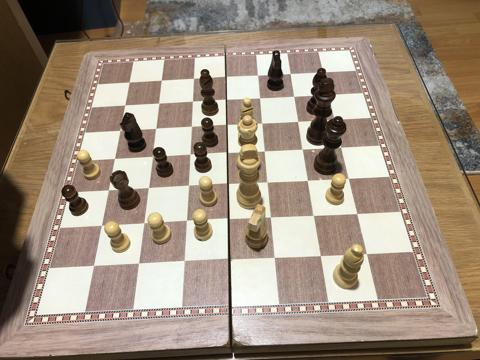xcorner: (220, 119, 233, 132), (261, 176, 274, 189), (221, 178, 234, 191), (132, 257, 145, 270), (316, 67, 329, 79), (252, 70, 264, 83), (219, 72, 232, 84), (187, 74, 200, 86), (124, 77, 136, 90), (220, 94, 232, 107), (186, 96, 198, 109), (119, 100, 132, 112), (114, 125, 127, 137), (297, 143, 309, 156), (259, 145, 271, 158), (183, 149, 196, 161), (342, 173, 355, 185), (180, 215, 192, 228), (137, 217, 150, 229), (177, 256, 190, 268), (284, 69, 296, 81), (156, 76, 168, 88), (322, 89, 334, 101), (288, 91, 300, 103), (254, 93, 266, 105), (153, 98, 165, 110), (328, 114, 340, 126), (292, 116, 304, 128), (256, 118, 268, 130), (185, 121, 197, 133), (150, 123, 162, 135), (335, 142, 347, 154), (221, 147, 233, 159), (146, 151, 158, 163), (109, 153, 121, 165), (302, 175, 314, 187), (182, 180, 194, 192), (142, 182, 154, 194), (103, 184, 115, 196), (351, 208, 363, 220), (308, 210, 320, 222), (265, 212, 277, 224), (222, 214, 234, 226), (96, 219, 108, 231), (361, 248, 373, 260), (315, 250, 327, 262), (269, 252, 281, 264), (223, 254, 235, 266), (88, 259, 100, 271)
